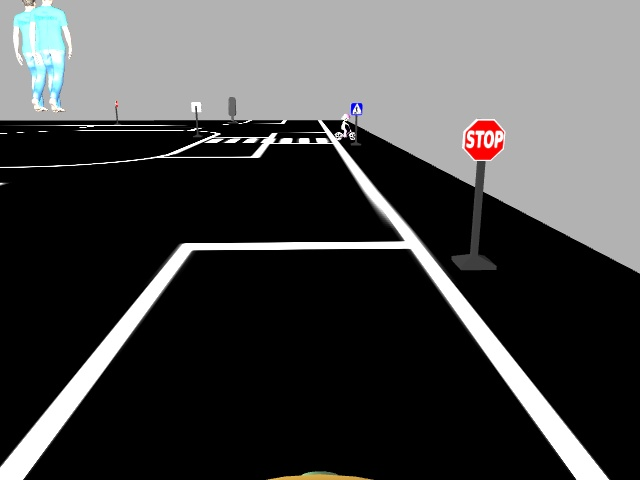Stop: (462, 117, 505, 161)
